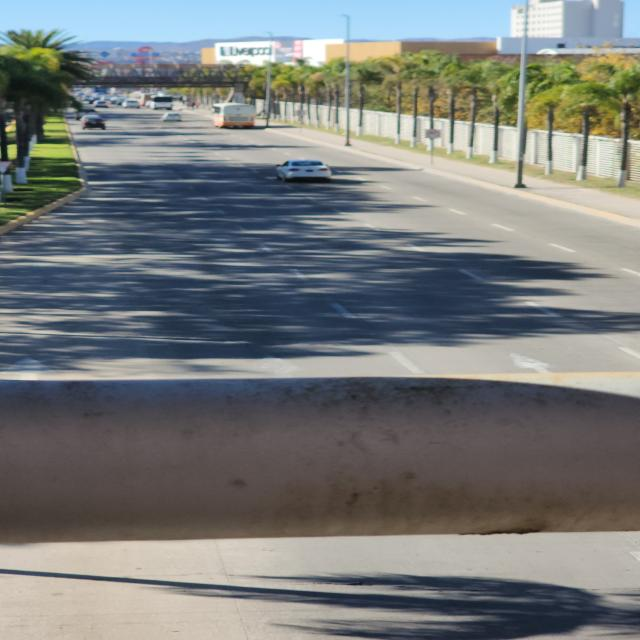Auto: (274, 159, 332, 183), (215, 105, 258, 132), (82, 116, 107, 131)
